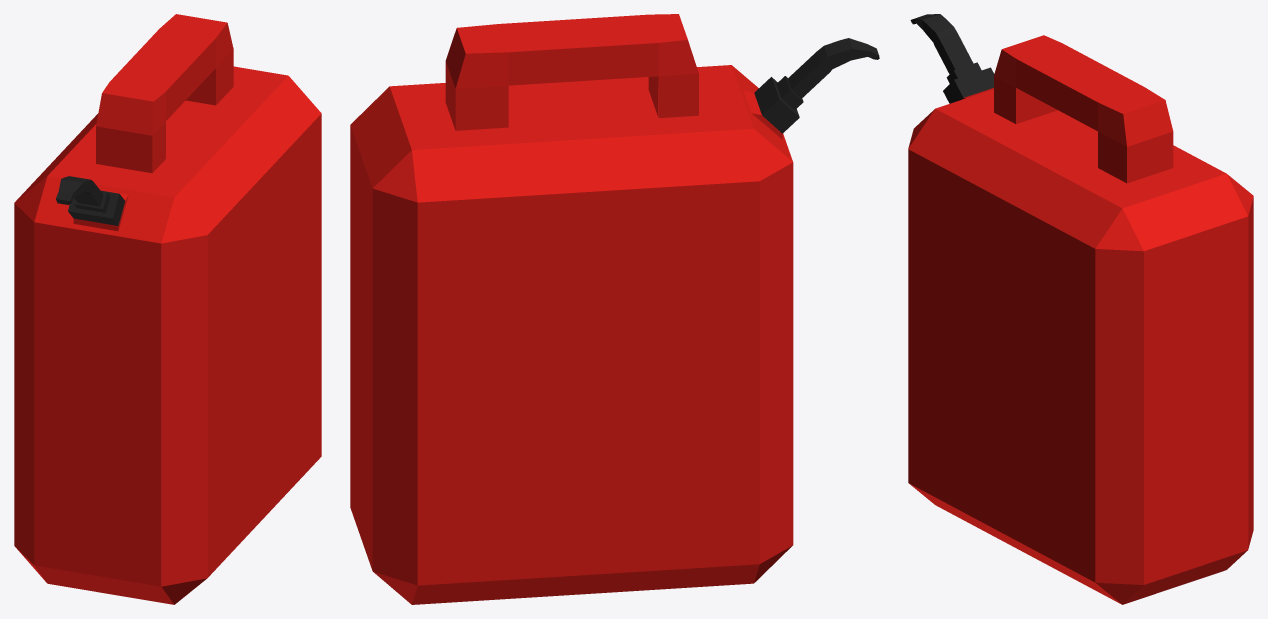
File: besinfinish.fbx
3 views of the same model, side by side, from view 1: azimuth 30°, elevation 25°; view 2: azimuth 150°, elevation 25°; view 3: azimuth 270°, elevation 25° (orthographic). The views are drawn at different scales.
Parts seen in each view (by area): view 1: Cube; view 2: Cube; view 3: Cube.
Part boxes in pixels (x1=…): Cube: x1=14, y1=14, x2=321, y2=604; Cube: x1=350, y1=14, x2=879, y2=604; Cube: x1=908, y1=14, x2=1253, y2=604.
Size of the model in its own units: 185 by 233 by 158.
